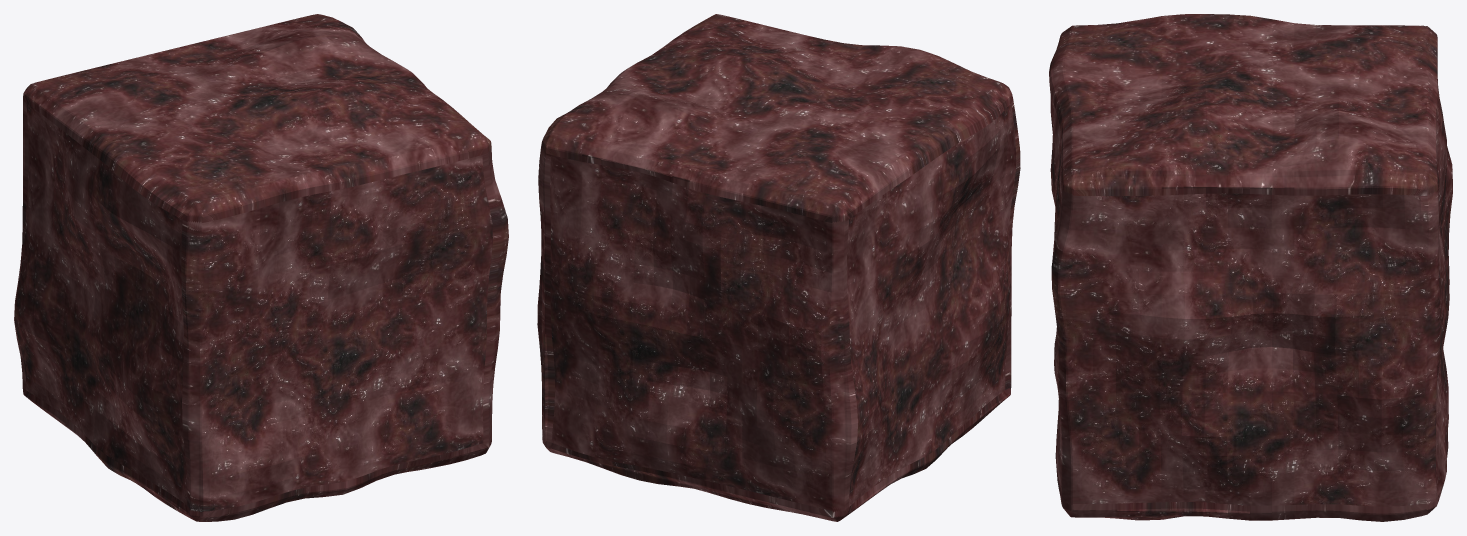
The model's file is meatcube.fbx.
3 views of the same model, side by side, from view 1: azimuth 30°, elevation 25°; view 2: azimuth 150°, elevation 25°; view 3: azimuth 270°, elevation 25° (orthographic). The views are drawn at different scales.
Parts seen in each view (by area): view 1: Cube; view 2: Cube; view 3: Cube.
Part boxes in pixels (x1,y1,x2,y2): Cube: (14, 14, 508, 521); Cube: (537, 14, 1020, 521); Cube: (1049, 14, 1452, 521).
Bounding box in the file's own units: 224 × 226 × 214.
